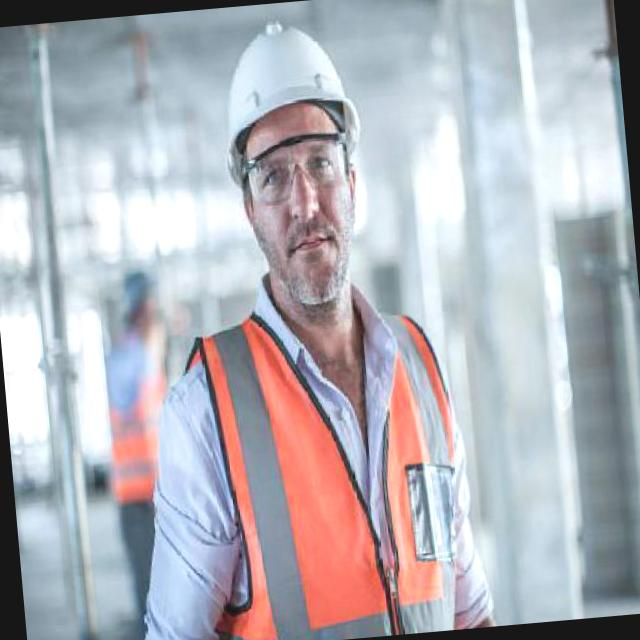helmet: (213, 13, 367, 192)
vest: (181, 293, 470, 640), (98, 344, 178, 509)
